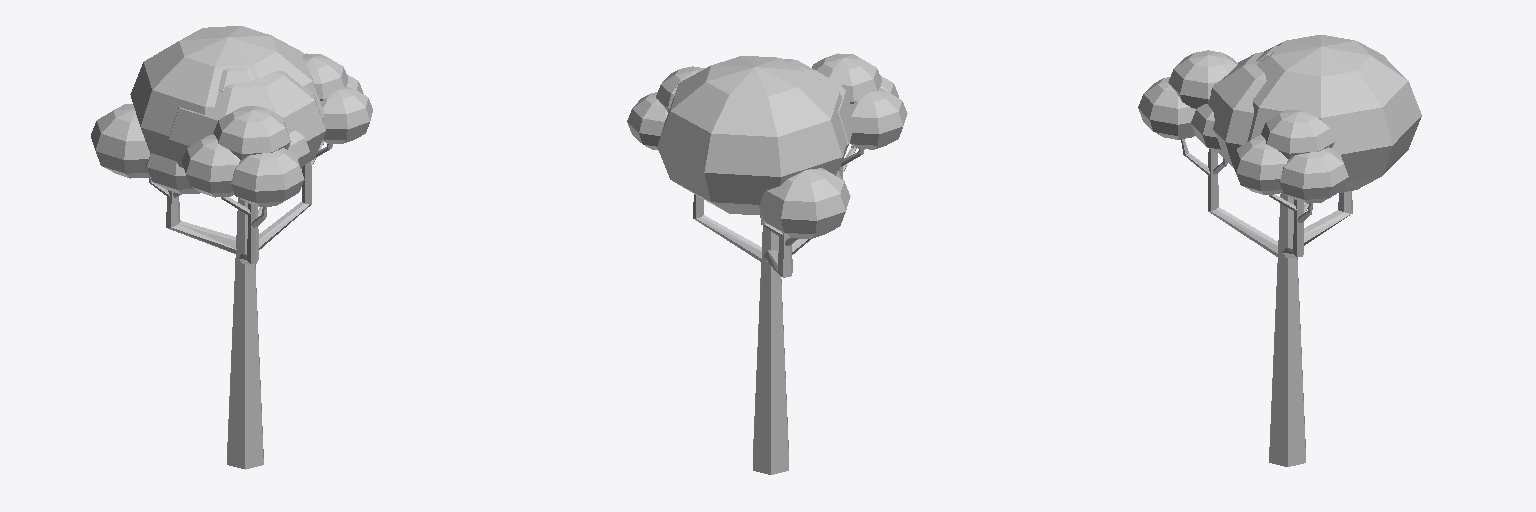
File: arbolMasAlto.obj
3 views of the same model, side by side, from view 1: azimuth 30°, elevation 25°; view 2: azimuth 150°, elevation 25°; view 3: azimuth 270°, elevation 25° (orthographic).
Visible parts, largest first — view 1: Tree_1; view 2: Tree_1; view 3: Tree_1.
Boxes of the visible parts, x1,y1,x2,y2 form: Tree_1: [91, 26, 372, 469]; Tree_1: [627, 53, 907, 474]; Tree_1: [1138, 35, 1421, 466].
Bounding box in the file's own units: 74.36 × 123 × 76.75.